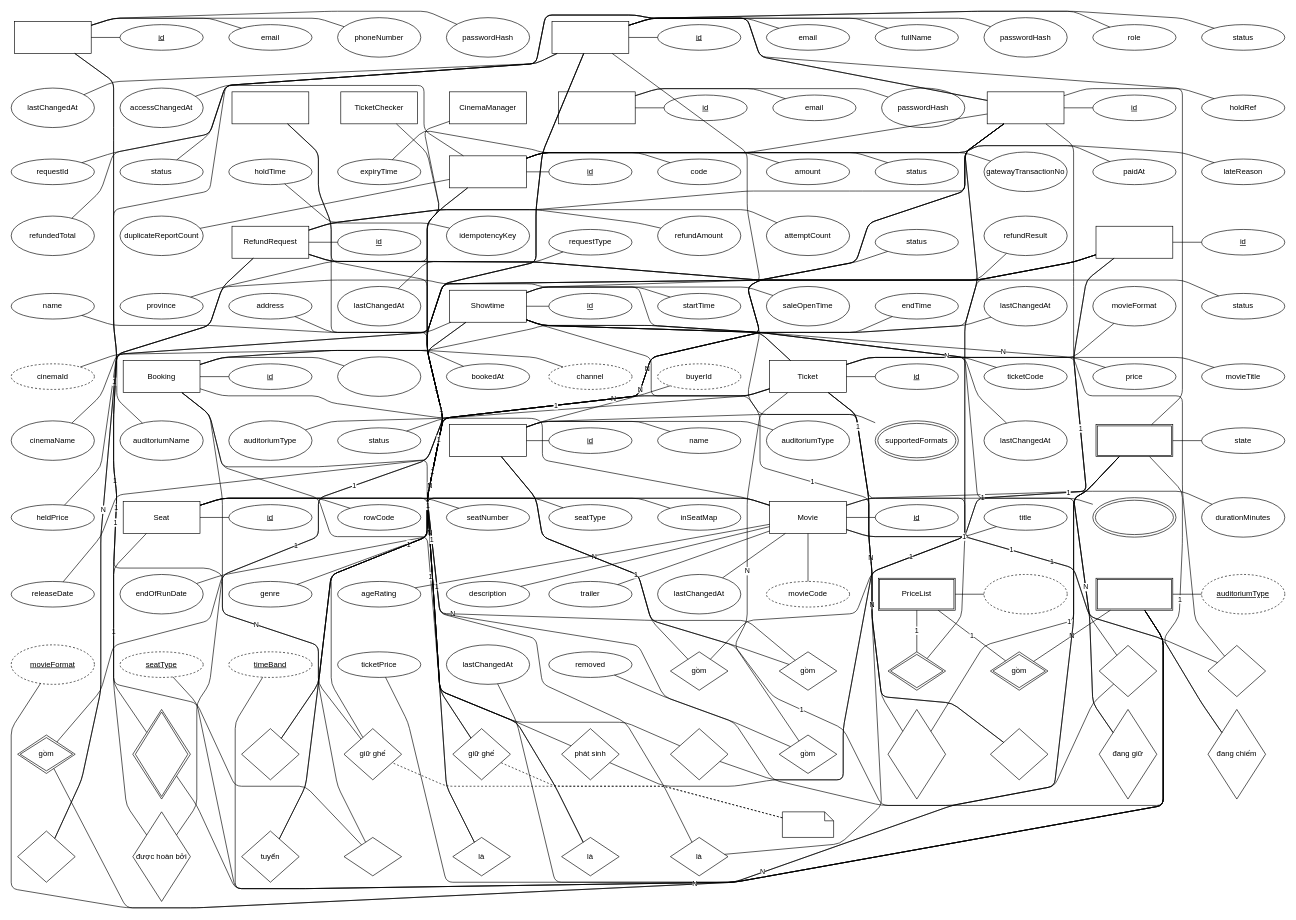
The diagram is 1296 pixels wide and 920 high, and some of its shapes have lost their labels. The centre of each missing label's shape, as x and y in pixels:
AdministratorAccount: point (596, 107)
Auditorium: point (487, 440)
bookingCode: point (379, 376)
BoxOfficeClerk: point (270, 107)
chiếu: point (1236, 671)
Cinema: point (1134, 242)
Customer: point (52, 37)
có: point (916, 670)
có tình trạng: point (161, 754)
dẫn tới: point (699, 754)
entryChangeTimes: point (1025, 594)
nhận: point (270, 754)
PaymentTransaction: point (487, 171)
PriceEntry: point (1134, 594)
releaseFormats: point (1134, 517)
SeatHold: point (1025, 107)
SeatStatus: point (1134, 440)
sinh ra: point (46, 856)
Staff: point (590, 37)
thuộc: point (1019, 754)
tổ chức: point (1128, 671)
{xor}: point (808, 824)
đã chiếm: point (916, 754)
đặt: point (372, 856)
